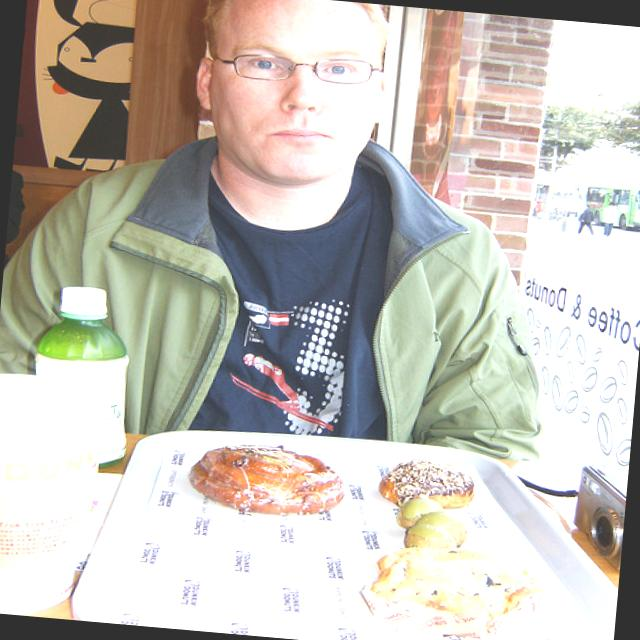Vehicle: (579, 175, 640, 232)
